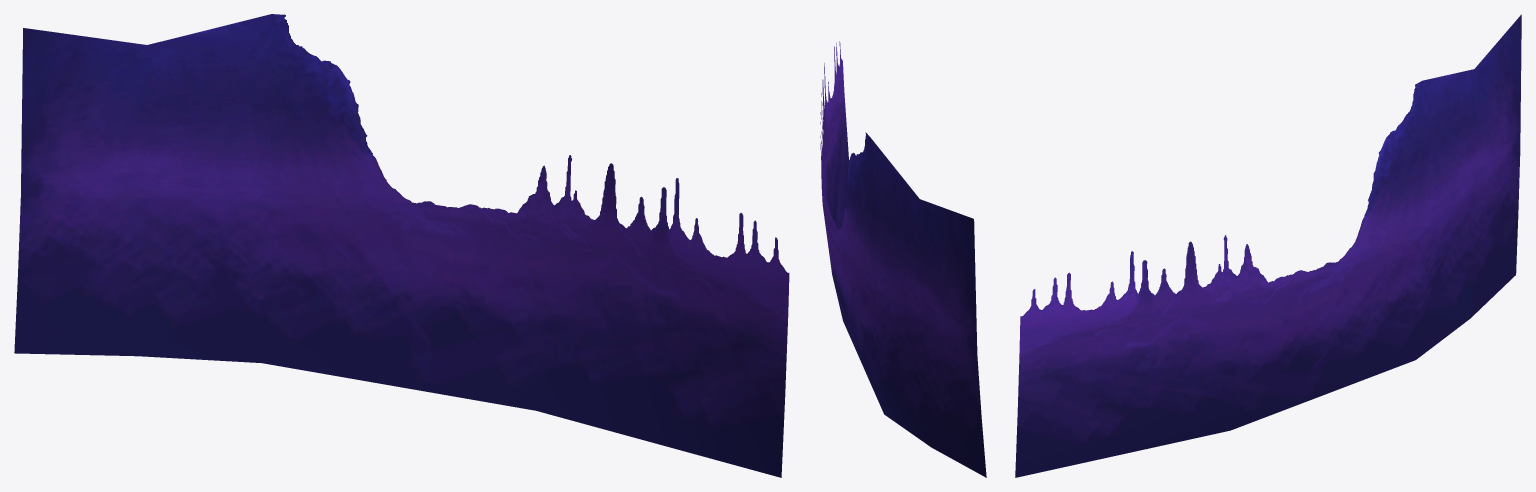
The model's file is SWORDLIGHT20_PS-AREA05-RANGE03_01.fbx.
3 renders of one model, left to right at view 1: azimuth 30°, elevation 25°; view 2: azimuth 150°, elevation 25°; view 3: azimuth 270°, elevation 25°, orthographic. The views are drawn at different scales.
Visible parts, largest first — view 1: SWORDLIGHT20_PS-AREA05-RANGE03_01; view 2: SWORDLIGHT20_PS-AREA05-RANGE03_01; view 3: SWORDLIGHT20_PS-AREA05-RANGE03_01.
Part boxes in pixels (x1=…): SWORDLIGHT20_PS-AREA05-RANGE03_01: x1=14, y1=14, x2=789, y2=477; SWORDLIGHT20_PS-AREA05-RANGE03_01: x1=820, y1=41, x2=986, y2=477; SWORDLIGHT20_PS-AREA05-RANGE03_01: x1=1015, y1=14, x2=1521, y2=477.
Bounding box in the file's own units: 375505 × 262060 × 414903.
Materials: 7 (7 with a texture image).
